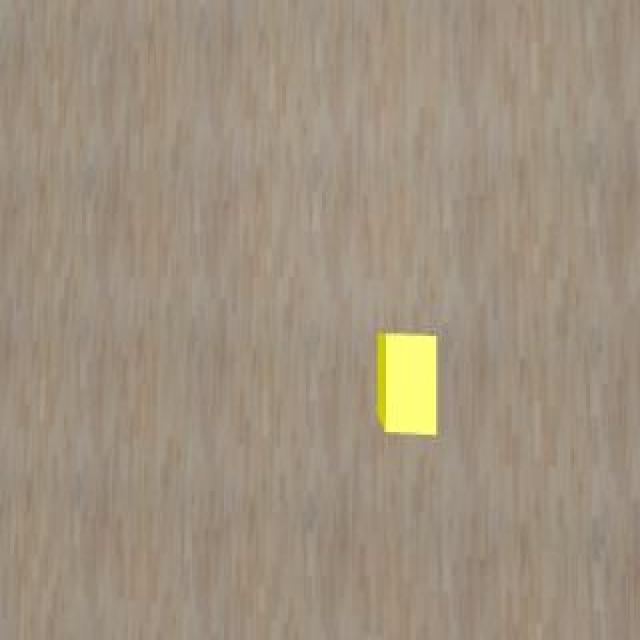cube-cAb5: (374, 331, 441, 438)
